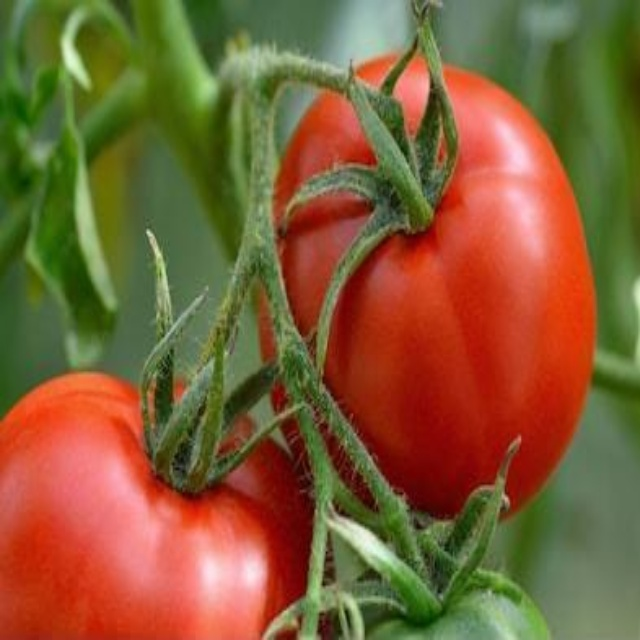tomato: (241, 46, 595, 528), (2, 354, 316, 634)
